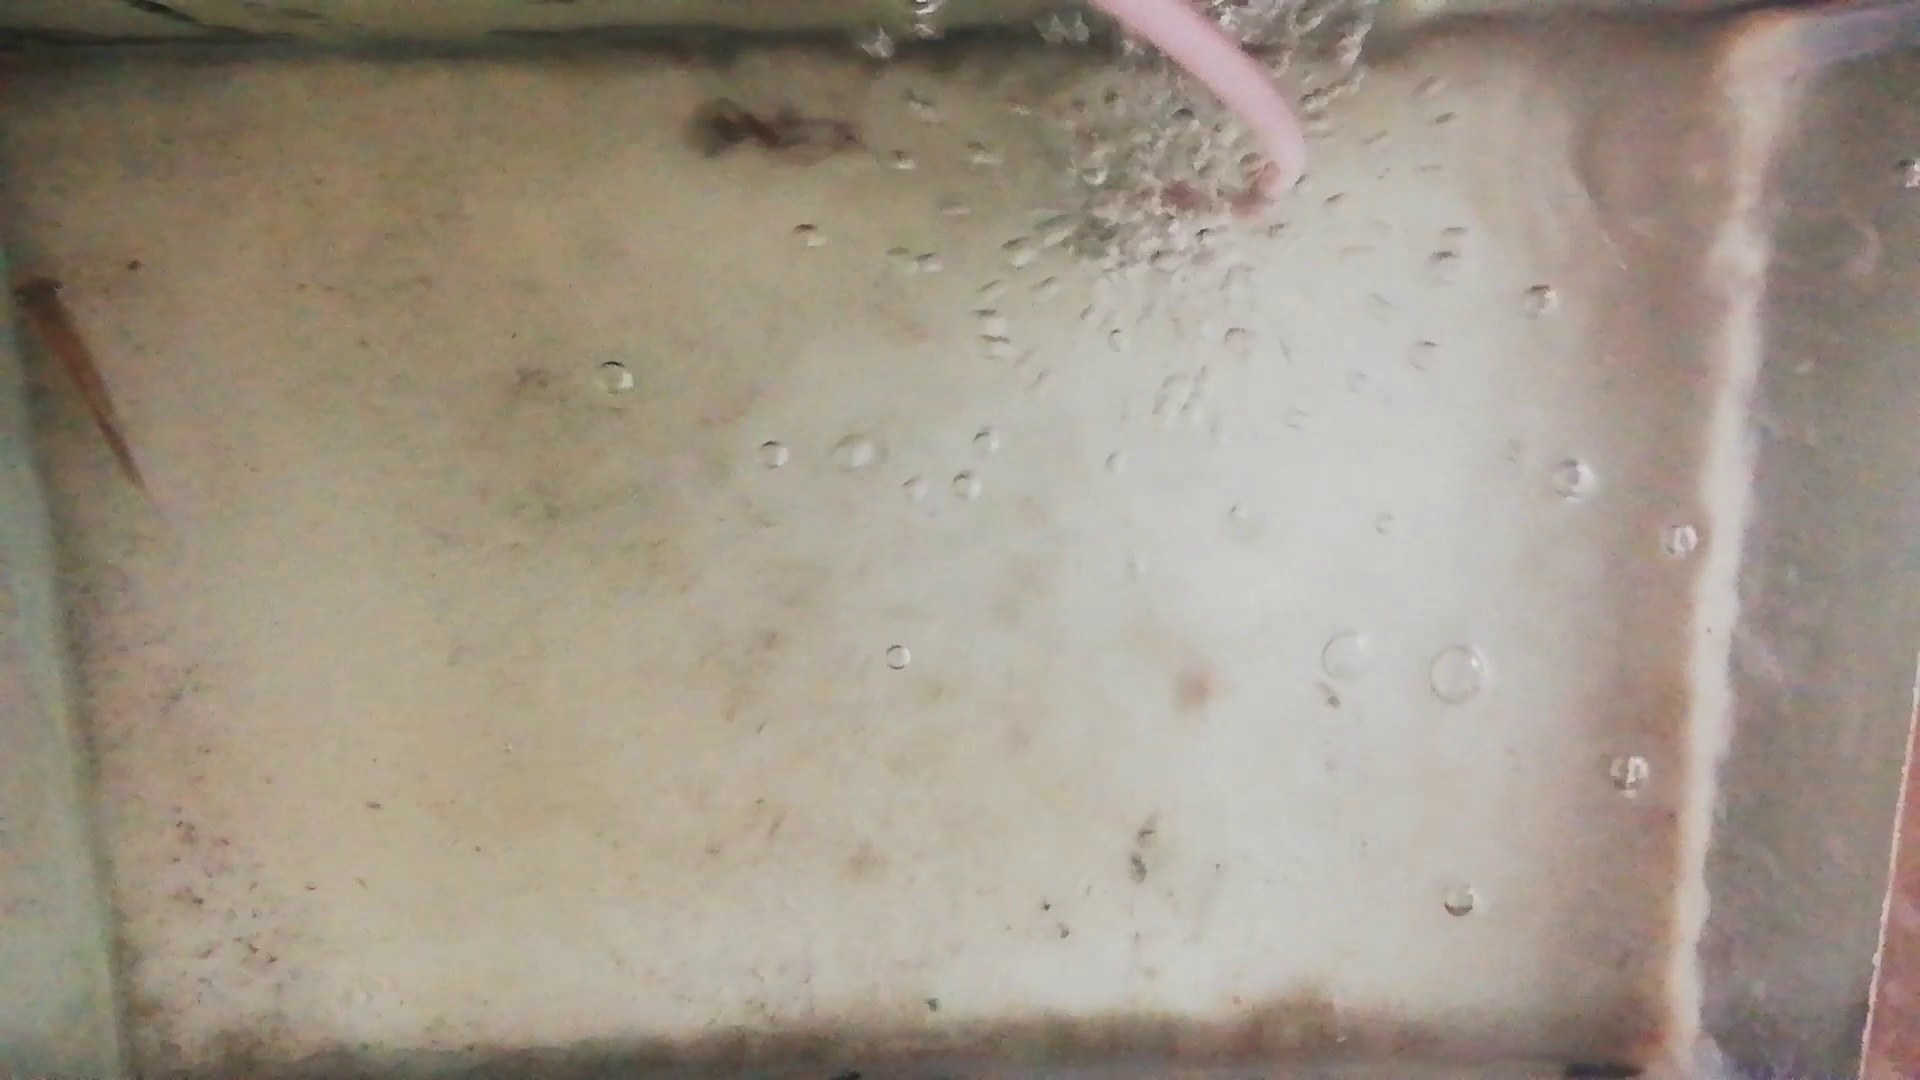fish: (15, 273, 142, 488), (690, 105, 873, 164)
